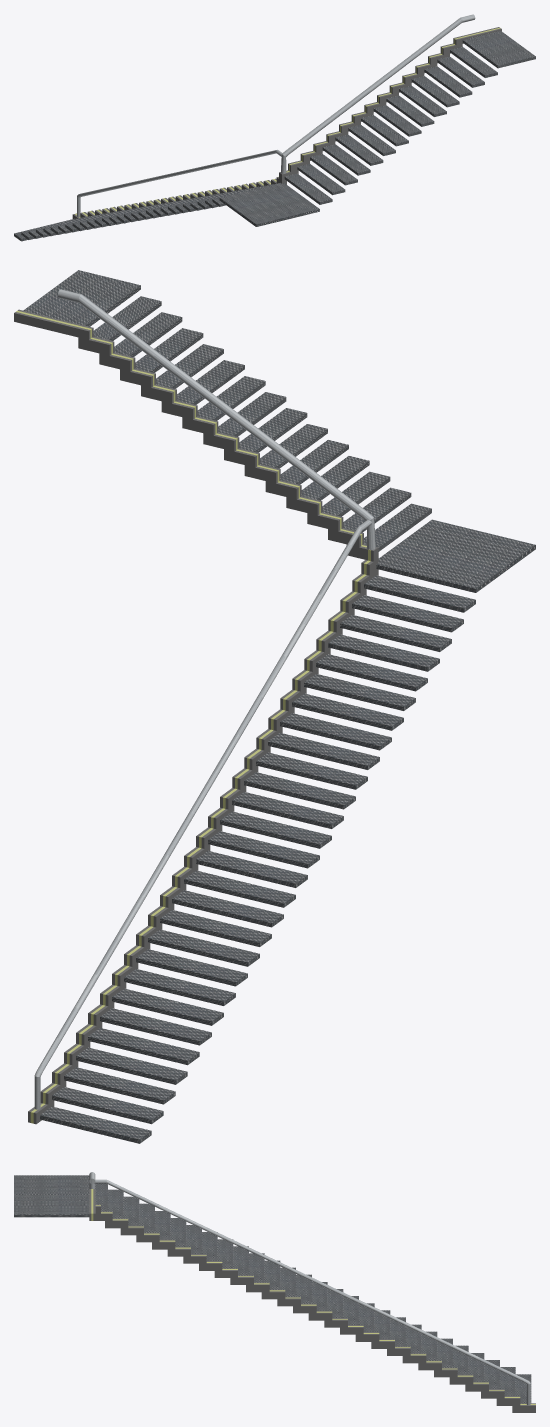
Rendered from Stairs5.fbx.
3 views of the same model, one above another, from view 1: azimuth 30°, elevation 25°; view 2: azimuth 150°, elevation 25°; view 3: azimuth 270°, elevation 25° (orthographic). The views are drawn at different scales.
Parts seen in each view (by area): view 1: Cube_027, Cube_008, Cube_087, Cylinder, Cylinder_002; view 2: Cube_008, Cube_027, Cube_087, Cylinder_002, Cylinder; view 3: Cube_008, Cube_087, Cylinder_002, Cube_027.
Part boxes in pixels (bbox=[...]): Cube_027: bbox=[284, 30, 535, 204]; Cube_008: bbox=[14, 183, 319, 241]; Cube_087: bbox=[72, 27, 501, 218]; Cylinder: bbox=[280, 14, 475, 173]; Cylinder_002: bbox=[77, 149, 282, 216]; Cube_008: bbox=[40, 519, 535, 1143]; Cube_027: bbox=[23, 270, 431, 551]; Cube_087: bbox=[14, 309, 378, 1124]; Cylinder_002: bbox=[34, 520, 371, 1109]; Cylinder: bbox=[57, 289, 375, 549]; Cube_008: bbox=[14, 1175, 531, 1403]; Cube_087: bbox=[89, 1189, 535, 1412]; Cylinder_002: bbox=[94, 1179, 530, 1405]; Cube_027: bbox=[14, 1194, 89, 1217].
Bounding box in the file's own units: 2210 × 2339 × 3330.
